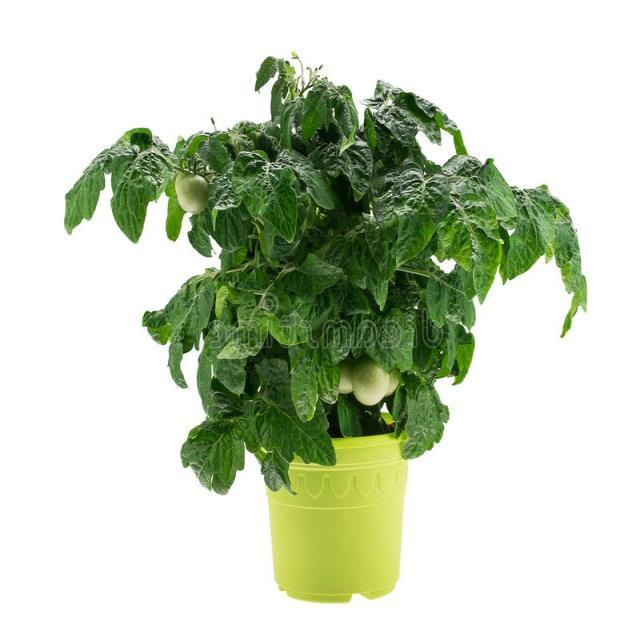tomato: (64, 56, 587, 494)
